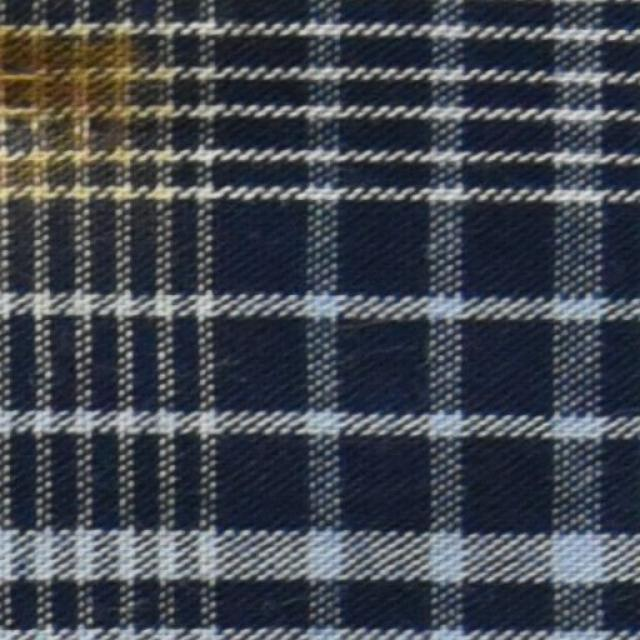Stain: (0, 1, 144, 178)
